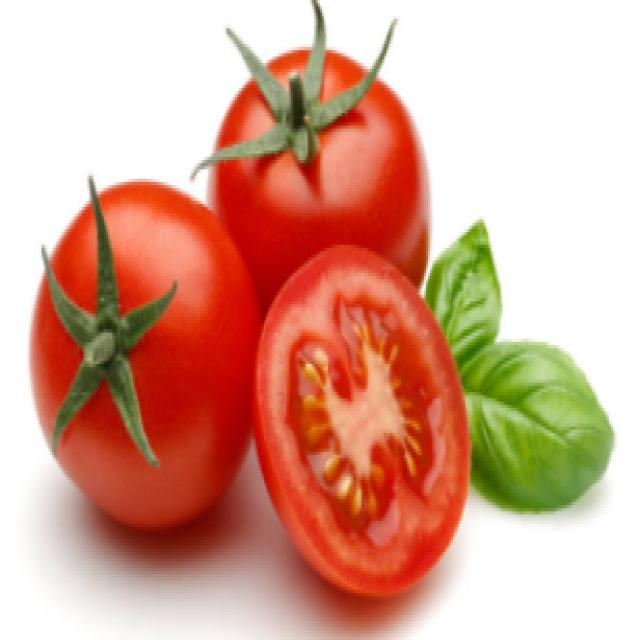Tomato: (29, 186, 251, 534), (269, 233, 461, 600), (206, 9, 443, 303)
